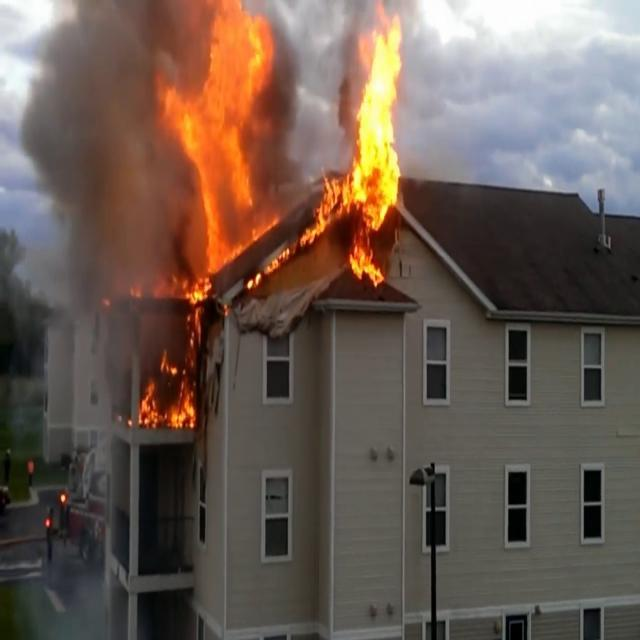Fire: (138, 0, 403, 428)
